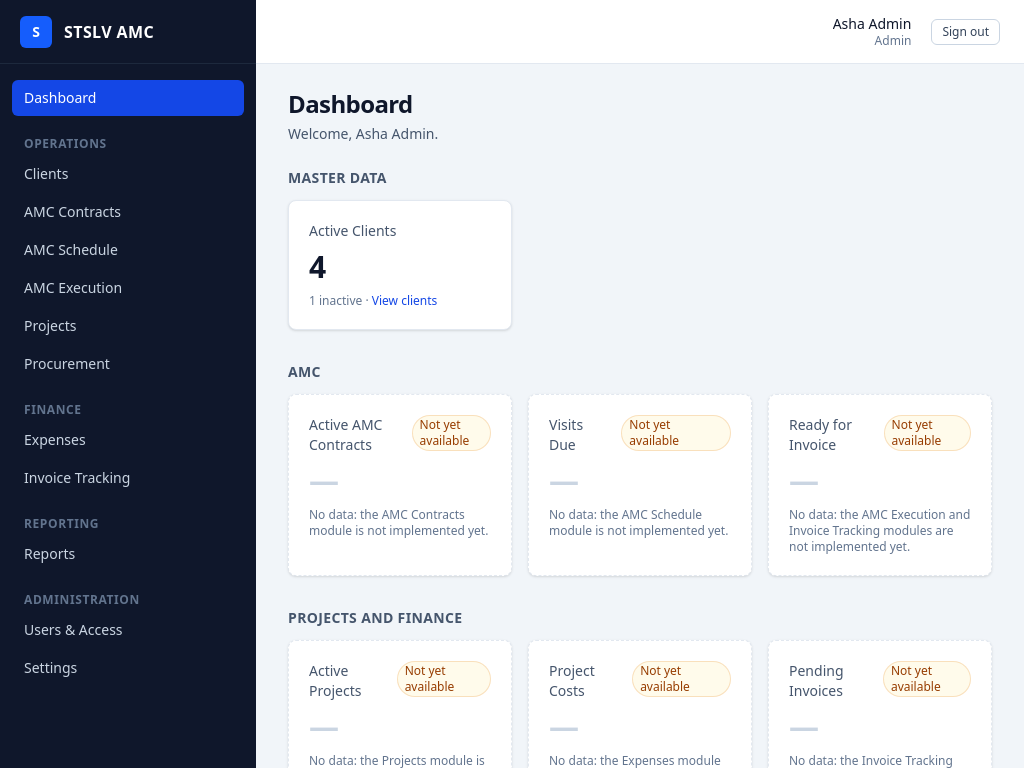
Test: protected routes › signs out, clears the session and returns to the login page
Click the button "Sign out" at [966, 32], box [931, 18, 1000, 44]
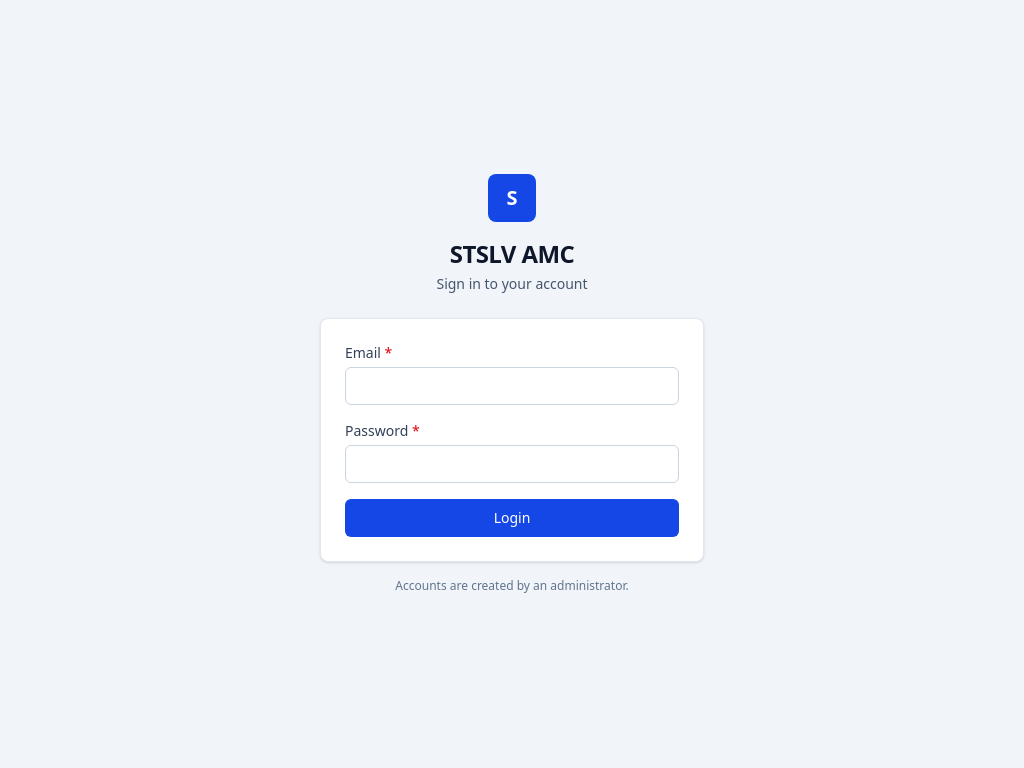
Expected: the button "Login" is shown, [345, 499, 679, 537]
